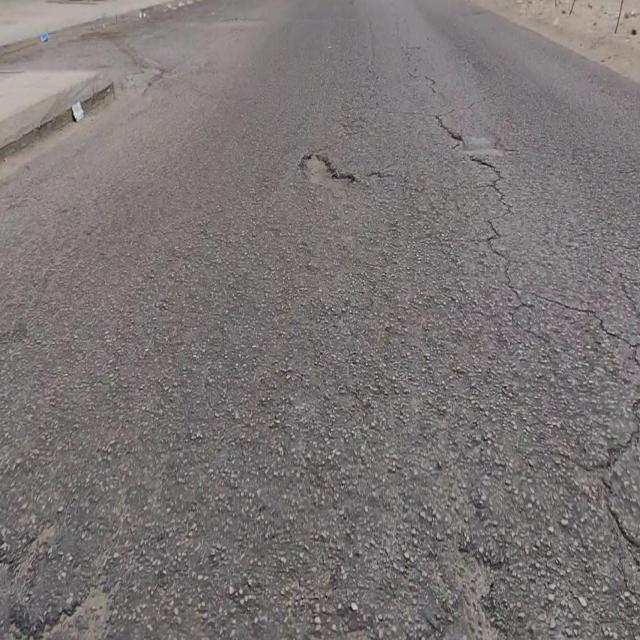Potholes: (297, 151, 354, 184)
